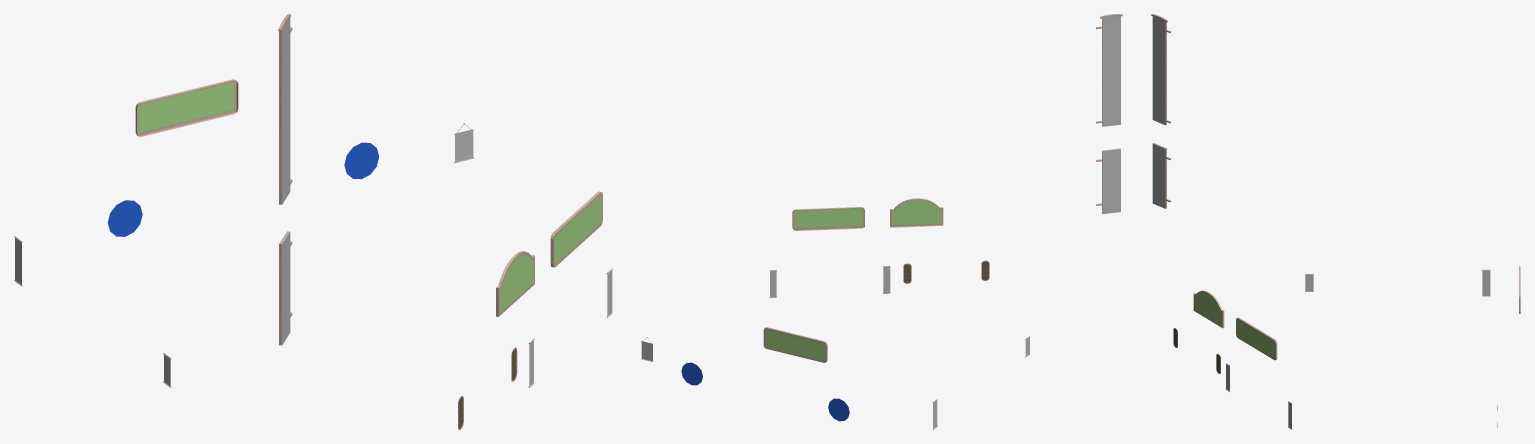
Rendered from SM_ENV_KNVLLG_Signs_1.mo.fbx.
The picture shows the model from 3 angles, left to right: view 1: azimuth 30°, elevation 25°; view 2: azimuth 150°, elevation 25°; view 3: azimuth 270°, elevation 25°; orthographic projection. The views are drawn at different scales.
Visible parts, largest first — view 1: SM_ENV_KNVLLG_Signs_1.mo; view 2: SM_ENV_KNVLLG_Signs_1.mo; view 3: SM_ENV_KNVLLG_Signs_1.mo.
Part boxes in pixels (x1,y1,x2,y2): SM_ENV_KNVLLG_Signs_1.mo: (14, 14, 612, 429); SM_ENV_KNVLLG_Signs_1.mo: (641, 14, 1122, 429); SM_ENV_KNVLLG_Signs_1.mo: (1151, 14, 1520, 429).
Size of the model in its own units: 18.07 by 17.13 by 20.06.
